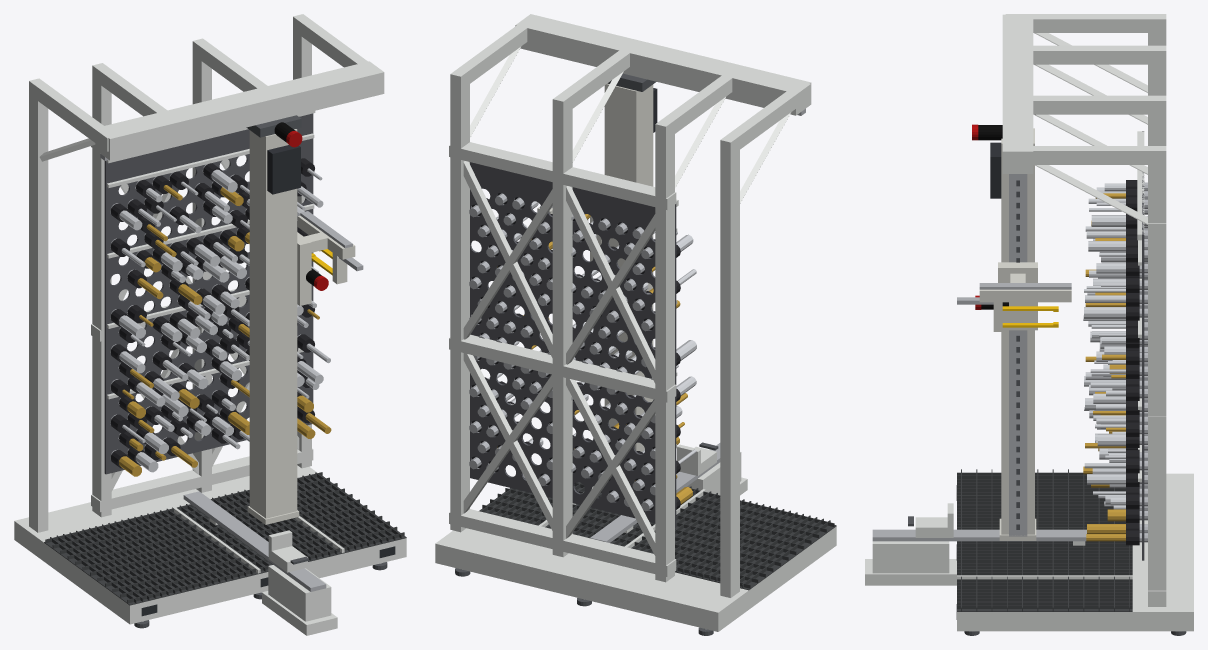
Rendered from tool_wall_magazine_1mod_white.glb.
3 renders of one model, left to right at view 1: azimuth 30°, elevation 25°; view 2: azimuth 150°, elevation 25°; view 3: azimuth 270°, elevation 25°, orthographic. The views are drawn at different scales.
Visible parts, largest first — view 1: twm_frame__truss_white, twm_base__grating, twm_frame__anthracite_lt, mag_loader__struct_grey, twm_tools__holder, twm_tools__tool_bright, twm_base__truss_white, twm_tools__tool_gold, twm_load_station__truss_white, twm_load_station__steel, mag_loader_z__struct_grey, mag_loader__anthracite (+3 smaller); view 2: twm_frame__truss_white, twm_frame__anthracite_lt, twm_base__truss_white, twm_base__grating, twm_tools__steel, mag_loader__struct_grey, twm_tools__holder, twm_tools__tool_bright, twm_load_station__steel, mag_load_drawer__truss_white, twm_load_station__truss_white; view 3: twm_frame__truss_white, twm_base__grating, twm_base__truss_white, twm_tools__tool_bright, mag_loader__steel, mag_loader__struct_grey, twm_tools__holder, twm_load_station__truss_white, mag_loader_z__struct_grey, twm_tools__tool_gold, twm_tools__steel, twm_load_station__steel (+6 smaller).
Boxes of the visible parts, x1,y1,x2,y2 form: twm_frame__truss_white: (29,14,384,532); twm_base__grating: (44,472,406,605); twm_frame__anthracite_lt: (104,113,313,474); mag_loader__struct_grey: (247,129,299,524); twm_tools__holder: (110,158,314,468); twm_tools__tool_bright: (119,168,330,472); twm_base__truss_white: (14,465,406,624); twm_tools__tool_gold: (119,185,331,476); twm_load_station__truss_white: (209,518,337,635); twm_load_station__steel: (183,491,326,591); mag_loader_z__struct_grey: (297,215,355,305); mag_loader__anthracite: (267,145,300,194); twm_frame__truss_white: (449,14,811,597); twm_frame__anthracite_lt: (470,162,676,527); twm_base__truss_white: (435,486,836,631); twm_base__grating: (479,473,836,590); twm_tools__steel: (469,193,655,511); mag_loader__struct_grey: (604,83,653,479); twm_tools__holder: (471,193,680,509); twm_tools__tool_bright: (488,198,696,468); twm_load_station__steel: (590,443,720,542); mag_load_drawer__truss_white: (677,444,716,475); twm_load_station__truss_white: (624,449,747,533); twm_frame__truss_white: (1002,14,1166,606); twm_base__grating: (957,469,1132,611); twm_base__truss_white: (957,473,1193,631); twm_tools__tool_bright: (1083,183,1125,509); mag_loader__steel: (1009,174,1027,536); mag_loader__struct_grey: (999,128,1036,540); twm_tools__holder: (1126,180,1139,545); twm_load_station__truss_white: (865,541,1085,585); mag_loader_z__struct_grey: (979,262,1071,330); twm_tools__tool_gold: (1083,193,1125,541); twm_tools__steel: (1139,182,1147,542); twm_load_station__steel: (872,529,1086,541).
Bounding box in the file's own units: 2.14 × 3.54 × 2.15.
